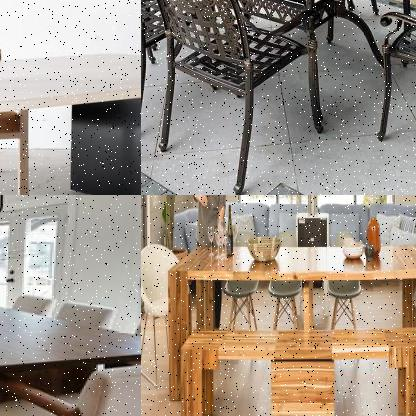table: (164, 239, 415, 415), (141, 0, 415, 139), (0, 46, 140, 194), (0, 284, 140, 415)
